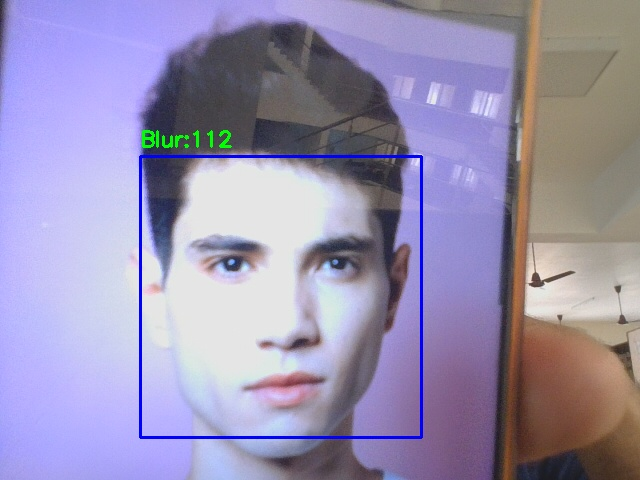fake: (140, 156, 421, 437)
